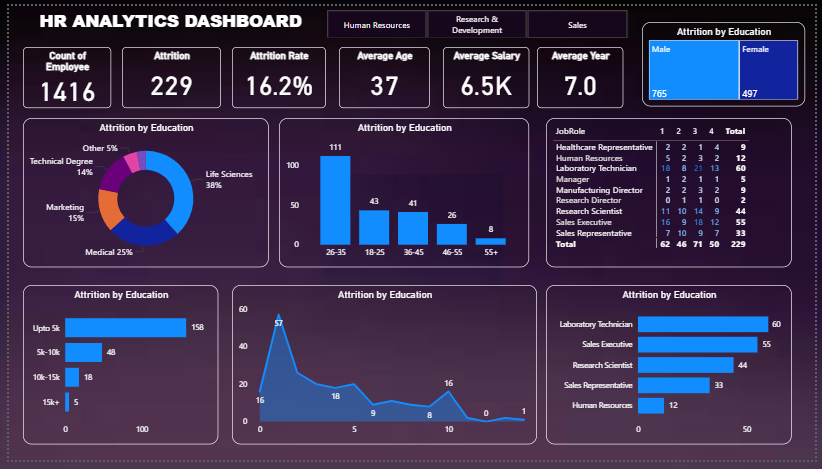

What the dashboard file says about the page in this screenshot:
{"tool":"powerbi","page":{"name":"Page 1","canvas":[1280,720],"ordinal":0},"visuals":[{"type":"card","title":"Count of Employee","fields":{"Values":["CountNonNull(HR_Analytics.EmpID)"]},"box":[22.9,65.7,140,97.1],"z":2},{"type":"card","title":"Attrition ","fields":{"Values":["Sum(HR_Analytics.AttritionCount)"]},"box":[178.6,65.7,157.1,97.1],"z":3},{"type":"card","title":"Attrition Rate","fields":{"Values":["HR_Analytics.AttritionRate"]},"box":[354.3,65.7,148.6,97.1],"z":4},{"type":"card","title":"Average Age","fields":{"Values":["Avg(HR_Analytics.Age)"]},"box":[524.3,65.7,144.3,97.1],"z":5},{"type":"card","title":"Average Salary","fields":{"Values":["Avg(HR_Analytics.MonthlyIncome)"]},"box":[688.6,65.7,137.1,97.1],"z":6},{"type":"card","title":"Average Year","fields":{"Values":["Avg(HR_Analytics.YearsAtCompany)"]},"box":[838.6,65.7,137.1,97.1],"z":7},{"type":"donutChart","title":"Attrition by Education","fields":{"Category":["HR_Analytics.EducationField"],"Y":["Sum(HR_Analytics.AttritionCount)"]},"box":[22.9,177.1,390,237.1],"z":8},{"type":"columnChart","title":"Attrition by Education","fields":{"Category":["HR_Analytics.AgeGroup"],"Y":["Sum(HR_Analytics.AttritionCount)"]},"box":[428.6,177.1,397.1,237.1],"z":9},{"type":"pivotTable","fields":{"Rows":["HR_Analytics.JobRole"],"Columns":["HR_Analytics.JobSatisfaction"],"Values":["Sum(HR_Analytics.AttritionCount)"]},"box":[852.9,177.1,390,237.1],"z":10},{"type":"barChart","title":"Attrition by Education","fields":{"Category":["HR_Analytics.SalarySlab"],"Y":["Sum(HR_Analytics.AttritionCount)"]},"box":[22.9,442.9,310,252.9],"z":11},{"type":"barChart","title":"Attrition by Education","fields":{"Y":["Sum(HR_Analytics.AttritionCount)"],"Category":["HR_Analytics.JobRole"]},"box":[852.9,442.9,390,252.9],"z":12},{"type":"areaChart","title":"Attrition by Education","fields":{"Category":["HR_Analytics.YearsAtCompany"],"Y":["Sum(HR_Analytics.AttritionCount)"]},"box":[354.3,442.9,484.3,252.9],"z":13},{"type":"slicer","fields":{"Values":["HR_Analytics.Department"]},"box":[478.6,0,525.7,50],"z":15},{"type":"textbox","box":[22.9,0,468.6,50],"z":16},{"type":"treemap","title":"Attrition by Education","fields":{"Group":["HR_Analytics.Gender"],"Values":["CountNonNull(HR_Analytics.Gender)"]},"box":[1004.3,25.7,258.6,134.3],"z":17}]}

Visuals, with their boxes in screenshot pixels (x1, y1, x2, y2), scaled from the page's 1280x720 canvas onto the 822x469 screenshot:
"Count of Employee" card: (15, 43, 105, 106)
"Attrition " card: (115, 43, 216, 106)
"Attrition Rate" card: (228, 43, 323, 106)
"Average Age" card: (337, 43, 429, 106)
"Average Salary" card: (442, 43, 530, 106)
"Average Year" card: (539, 43, 627, 106)
"Attrition by Education" donutChart: (15, 115, 265, 270)
"Attrition by Education" columnChart: (275, 115, 530, 270)
pivotTable - HR_Analytics.JobRole x HR_Analytics.JobSatisfaction: (548, 115, 798, 270)
"Attrition by Education" barChart: (15, 289, 214, 453)
"Attrition by Education" barChart: (548, 289, 798, 453)
"Attrition by Education" areaChart: (228, 289, 539, 453)
slicer - HR_Analytics.Department: (307, 0, 645, 33)
textbox: (15, 0, 316, 33)
"Attrition by Education" treemap: (645, 17, 811, 104)
